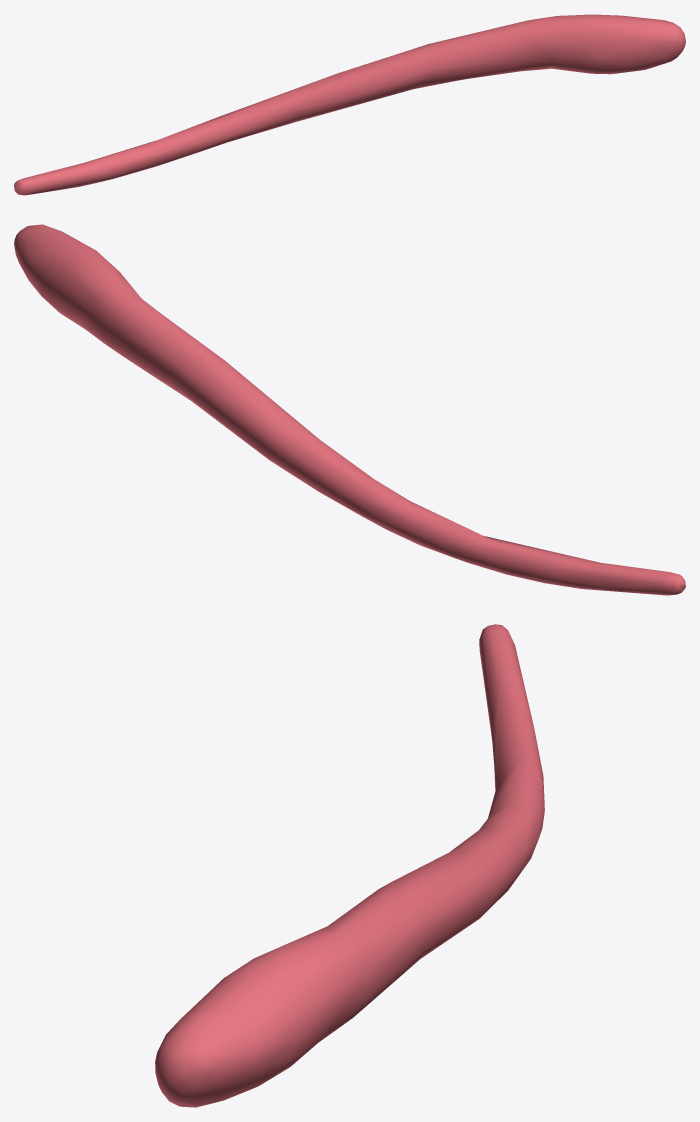
Rendered from fma8670_fj3050.glb.
The picture shows the model from 3 angles, top to bottom: view 1: azimuth 30°, elevation 25°; view 2: azimuth 150°, elevation 25°; view 3: azimuth 270°, elevation 25°; orthographic projection. The views are drawn at different scales.
Visible parts, largest first — view 1: FMA8670_FJ3050; view 2: FMA8670_FJ3050; view 3: FMA8670_FJ3050.
Part boxes in pixels (x1=…): FMA8670_FJ3050: x1=14, y1=14, x2=685, y2=195; FMA8670_FJ3050: x1=14, y1=224, x2=685, y2=595; FMA8670_FJ3050: x1=155, y1=624, x2=544, y2=1107.
Size of the model in its own units: 0.0905 by 0.0154 by 0.0258.
